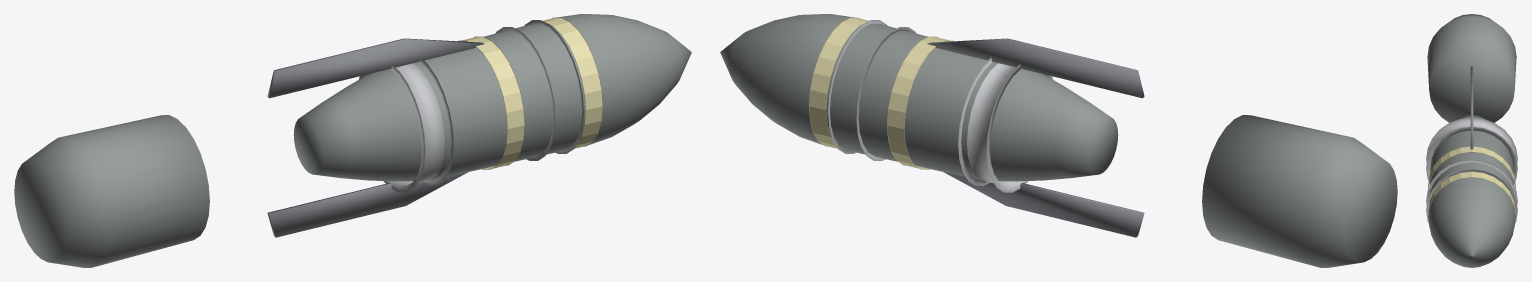
Rendered from FR_SLBM_M4_LOD1.fbx.
The picture shows the model from 3 angles, left to right: view 1: azimuth 30°, elevation 25°; view 2: azimuth 150°, elevation 25°; view 3: azimuth 270°, elevation 25°; orthographic projection. The views are drawn at different scales.
Parts seen in each view (by area): view 1: WPN_FR_SLBM_M4_LOD1_Body, WPN_FR_SLBM_M4_LOD1_Tail, WPN_FR_SLBM_M4_LOD1_Detail, WPN_FR_SLBM_M4_LOD1_Marking; view 2: WPN_FR_SLBM_M4_LOD1_Body, WPN_FR_SLBM_M4_LOD1_Tail, WPN_FR_SLBM_M4_LOD1_Detail, WPN_FR_SLBM_M4_LOD1_Marking; view 3: WPN_FR_SLBM_M4_LOD1_Body, WPN_FR_SLBM_M4_LOD1_Tail, WPN_FR_SLBM_M4_LOD1_Detail, WPN_FR_SLBM_M4_LOD1_Marking.
Boxes of the visible parts, x1,y1,x2,y2 form: WPN_FR_SLBM_M4_LOD1_Body: (293,14,691,181); WPN_FR_SLBM_M4_LOD1_Tail: (14,115,209,267); WPN_FR_SLBM_M4_LOD1_Detail: (267,20,583,237); WPN_FR_SLBM_M4_LOD1_Marking: (457,17,602,169); WPN_FR_SLBM_M4_LOD1_Body: (720,14,1118,181); WPN_FR_SLBM_M4_LOD1_Tail: (1202,115,1397,267); WPN_FR_SLBM_M4_LOD1_Detail: (828,20,1144,237); WPN_FR_SLBM_M4_LOD1_Marking: (809,17,954,169); WPN_FR_SLBM_M4_LOD1_Body: (1428,115,1515,267); WPN_FR_SLBM_M4_LOD1_Tail: (1427,14,1516,122); WPN_FR_SLBM_M4_LOD1_Detail: (1426,66,1517,222); WPN_FR_SLBM_M4_LOD1_Marking: (1428,146,1515,227).
Bounding box in the file's own units: 11 × 2.03 × 2.68.
